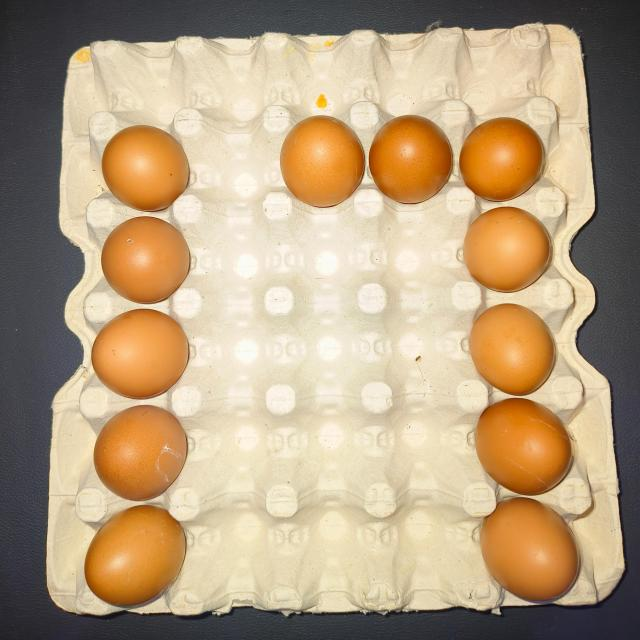Eggs: (82, 503, 184, 614), (86, 406, 186, 497), (489, 504, 579, 604), (475, 404, 573, 494), (101, 215, 194, 308), (461, 202, 554, 294), (466, 304, 555, 399), (285, 110, 367, 205), (100, 131, 191, 215), (94, 315, 186, 396), (375, 112, 451, 209), (464, 116, 546, 198)
